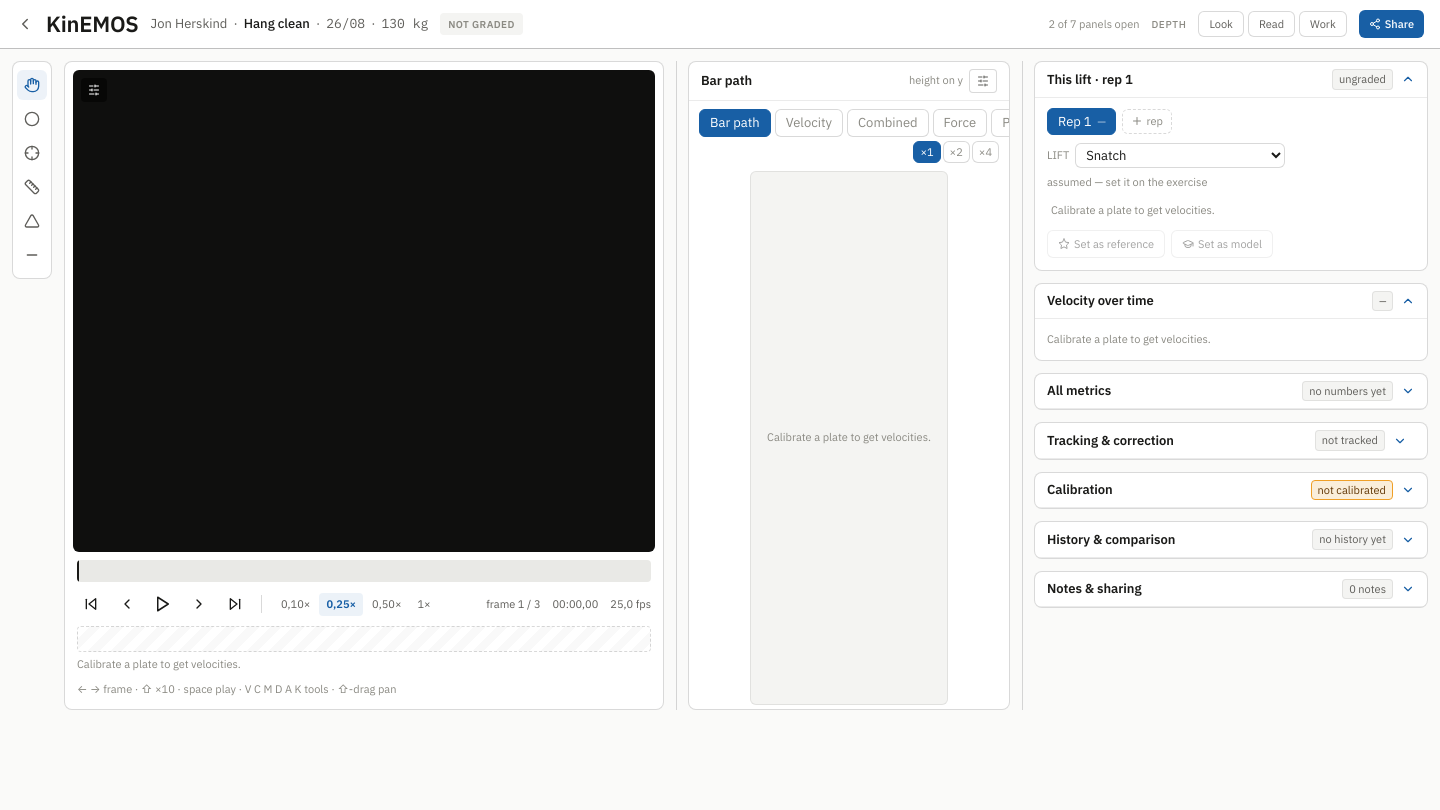
Scenario: KinemosViewer › Share opens the notes panel rather than a dialog
Expected: the text "Hang clean" is shown, 244,14 -> 310,34
Step 1. Click the button "Share" → (1391, 24), box 1359,10 -> 1424,38
(page scrolled)
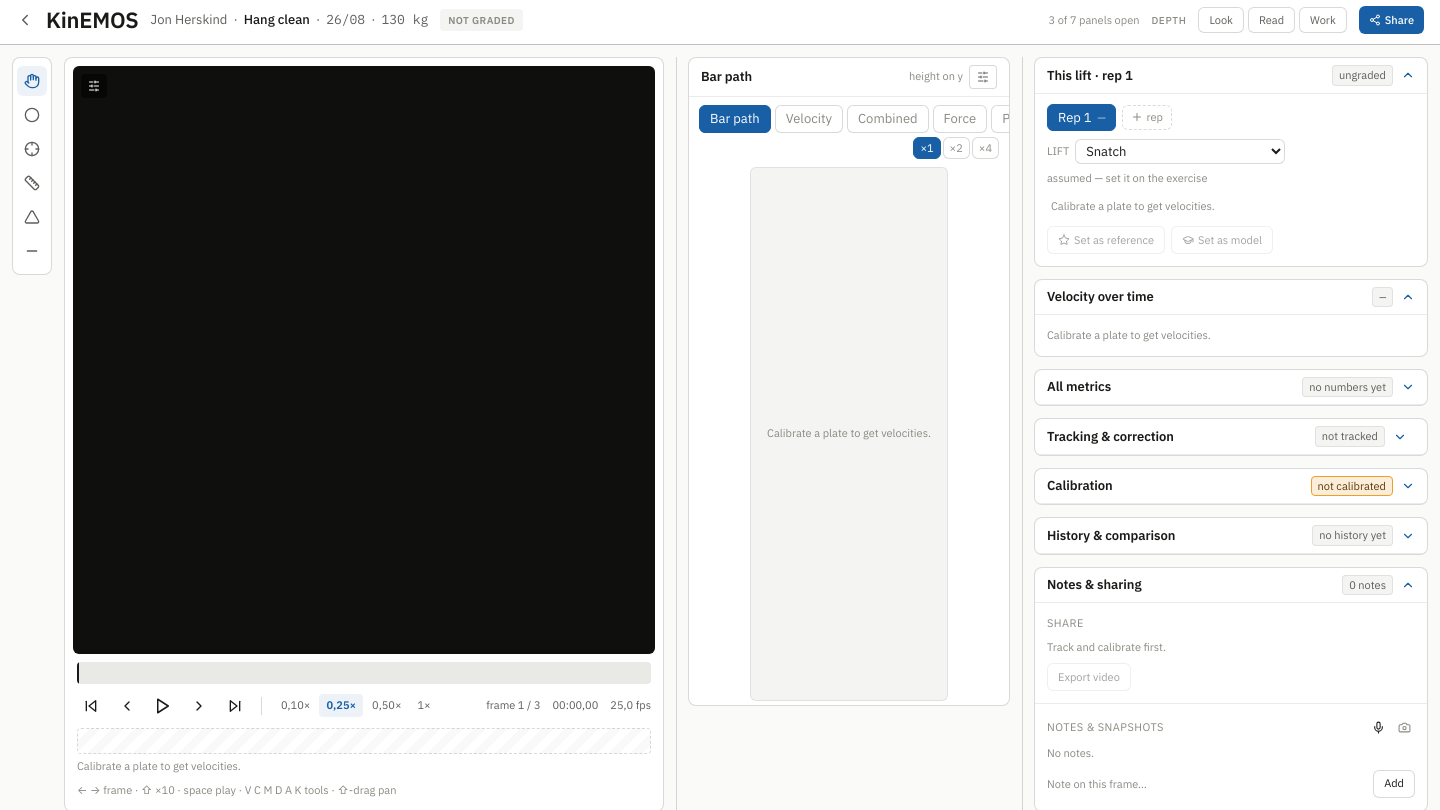
Result: the button "Notes & sharing 0 notes" is expanded at 1035,568 -> 1427,602
Result: the text "SHARE" is shown at 1047,615 -> 1084,632
